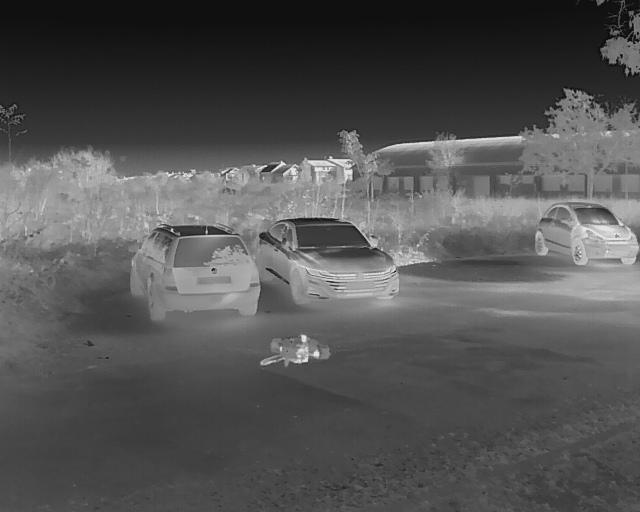drone: (255, 330, 336, 370)
